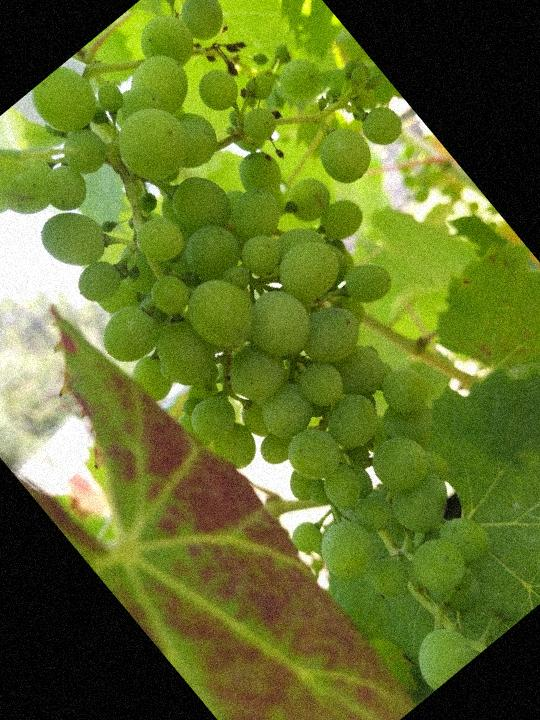grape: (0, 0, 540, 708)
